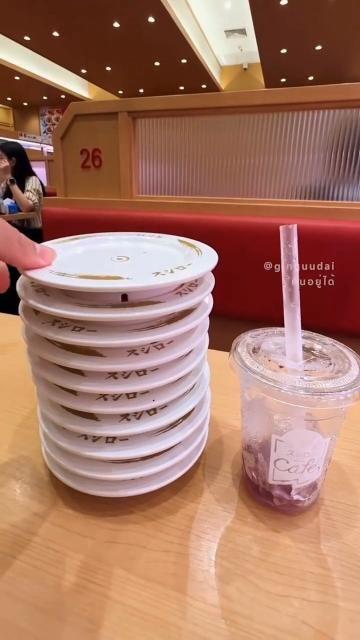janwhite: (57, 233, 222, 291), (62, 297, 201, 318), (65, 480, 190, 503), (60, 326, 190, 345), (70, 372, 189, 390), (64, 350, 183, 366), (78, 399, 186, 415), (85, 443, 186, 459), (83, 421, 174, 438), (84, 465, 172, 477)
